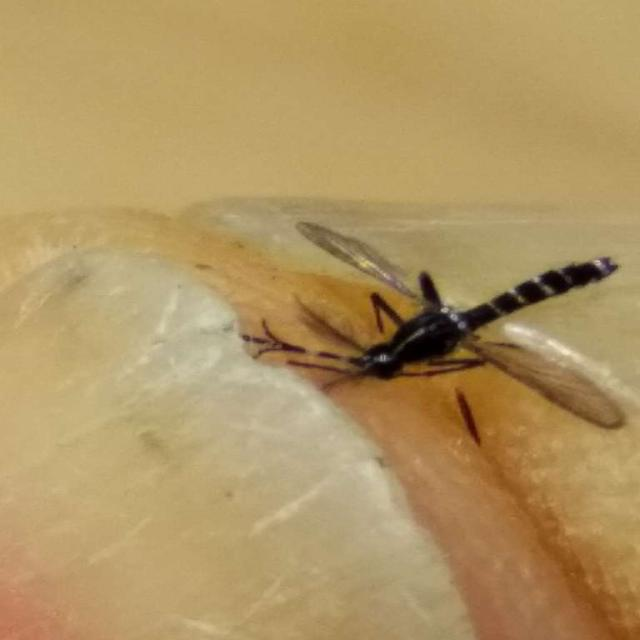albopictus: (222, 230, 622, 438)
